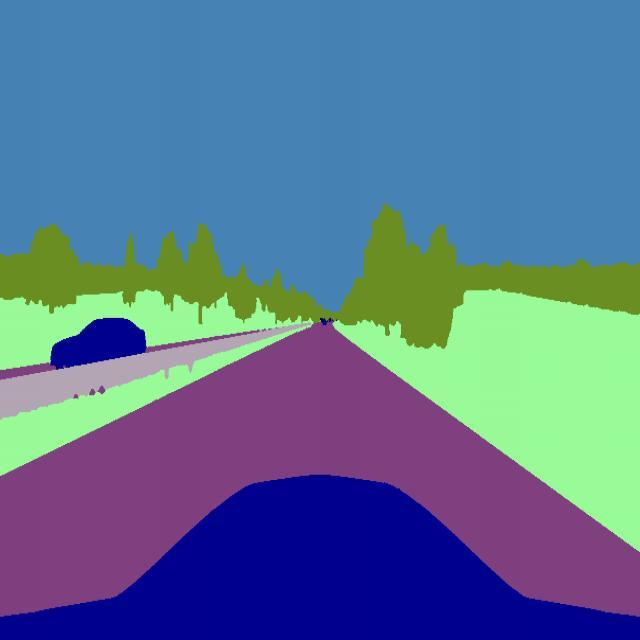safe: (46, 313, 150, 367)
